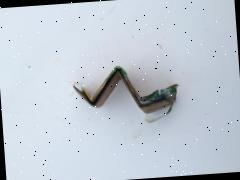cardboard: (56, 42, 220, 160)
